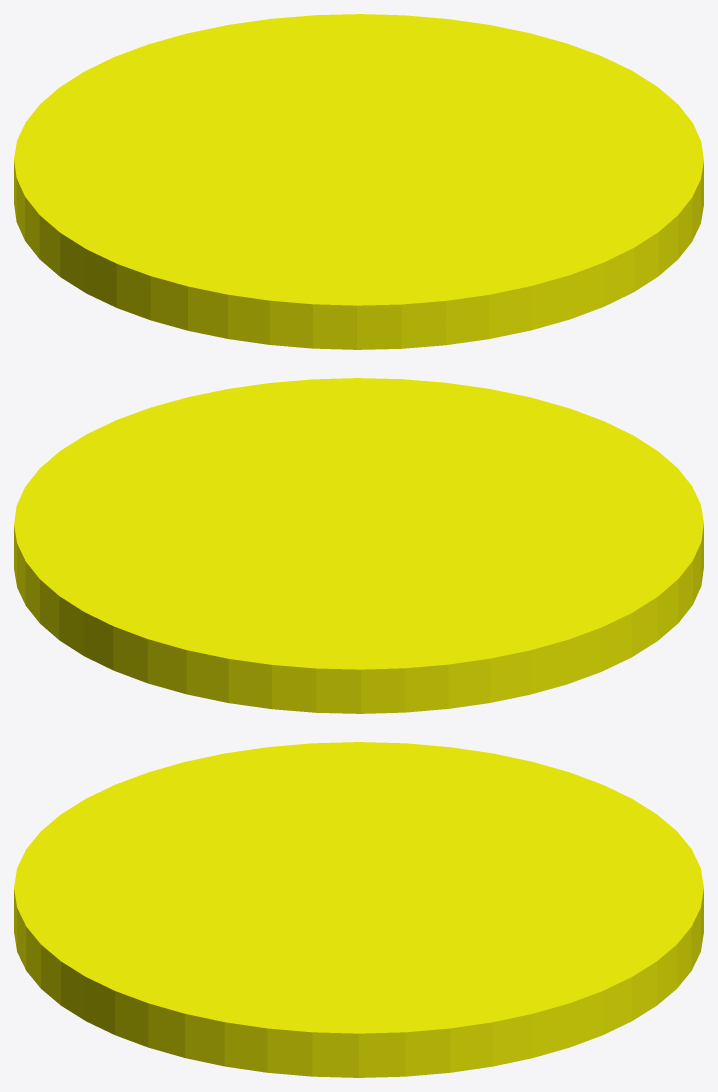
File: yellow-disc.glb
3 renders of one model, top to bottom at view 1: azimuth 30°, elevation 25°; view 2: azimuth 150°, elevation 25°; view 3: azimuth 270°, elevation 25°, orthographic.
Parts seen in each view (by area): view 1: Curve; view 2: Curve; view 3: Curve.
Boxes of the visible parts, bbox=[...] form: Curve: bbox=[14, 14, 703, 349]; Curve: bbox=[14, 378, 703, 713]; Curve: bbox=[14, 742, 703, 1077].
Bounding box in the file's own units: 0.0282 × 0.002 × 0.0282.
